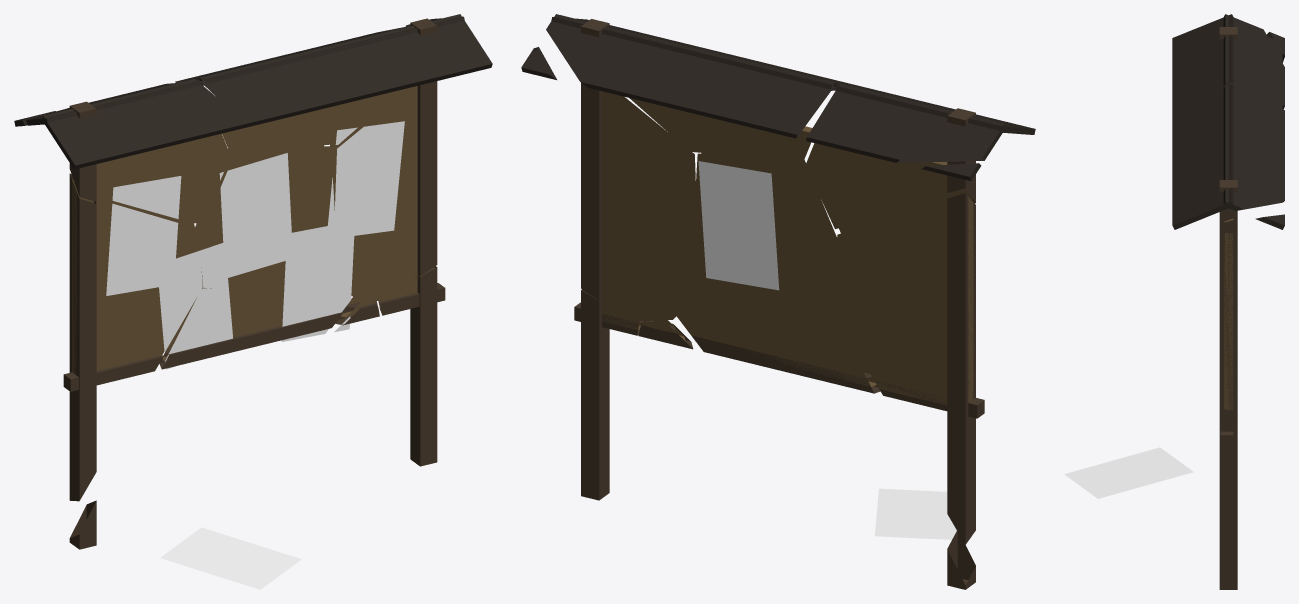
The model's file is missing_board.glb.
3 views of the same model, side by side, from view 1: azimuth 30°, elevation 25°; view 2: azimuth 150°, elevation 25°; view 3: azimuth 270°, elevation 25° (orthographic). The views are drawn at different scales.
Parts seen in each view (by area): view 1: chunk_4, chunk_1, chunk_5, chunk_3, chunk_2, chunk_6, chunk_0, chunk_7; view 2: chunk_4, chunk_3, chunk_1, chunk_2, chunk_5, chunk_6, chunk_0, chunk_7; view 3: chunk_1, chunk_5, chunk_3, chunk_0, chunk_6, chunk_4.
Boxes of the visible parts, x1,y1,x2,y2 form: chunk_4: [14, 111, 202, 501]; chunk_1: [175, 14, 492, 152]; chunk_5: [26, 79, 247, 223]; chunk_3: [330, 18, 441, 300]; chunk_2: [195, 143, 339, 288]; chunk_6: [69, 279, 351, 589]; chunk_0: [378, 266, 445, 466]; chunk_7: [187, 297, 379, 559]; chunk_4: [832, 163, 984, 544]; chunk_3: [521, 47, 695, 321]; chunk_1: [546, 14, 849, 161]; chunk_2: [693, 153, 836, 310]; chunk_5: [805, 83, 1035, 233]; chunk_6: [676, 300, 975, 589]; chunk_0: [574, 289, 649, 500]; chunk_7: [594, 320, 904, 537]; chunk_1: [1172, 84, 1284, 229]; chunk_5: [1172, 14, 1284, 115]; chunk_3: [1219, 214, 1284, 411]; chunk_0: [1219, 408, 1237, 589]; chunk_6: [1064, 447, 1193, 498]; chunk_4: [1219, 32, 1284, 228].
Size of the model in its own units: 2.45 by 2.46 by 1.22.
